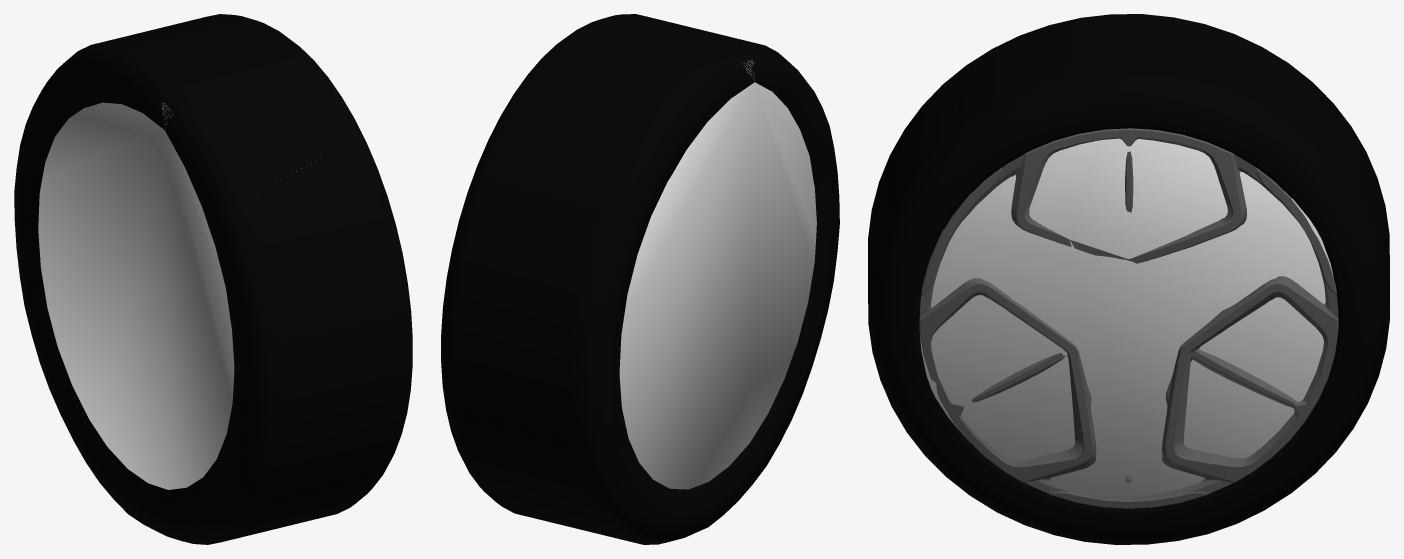
3 renders of one model, left to right at view 1: azimuth 30°, elevation 25°; view 2: azimuth 150°, elevation 25°; view 3: azimuth 270°, elevation 25°, orthographic.
Visible parts, largest first — view 1: wheel_eclipse_front_01, wheel_eclipse_front_01_col; view 2: wheel_eclipse_front_01, wheel_eclipse_front_01_col; view 3: wheel_eclipse_front_01, wheel_eclipse_front_01_col.
Boxes of the visible parts, box(x1,y1,x2,y2) form: wheel_eclipse_front_01: box(14, 14, 412, 544); wheel_eclipse_front_01_col: box(38, 102, 316, 489); wheel_eclipse_front_01: box(441, 14, 839, 544); wheel_eclipse_front_01_col: box(619, 60, 816, 489); wheel_eclipse_front_01: box(868, 14, 1389, 544); wheel_eclipse_front_01_col: box(919, 138, 1333, 494).
Bounding box in the file's own units: 0.2687 × 0.7068 × 0.7067.
Materials: 4 (3 with a texture image).
